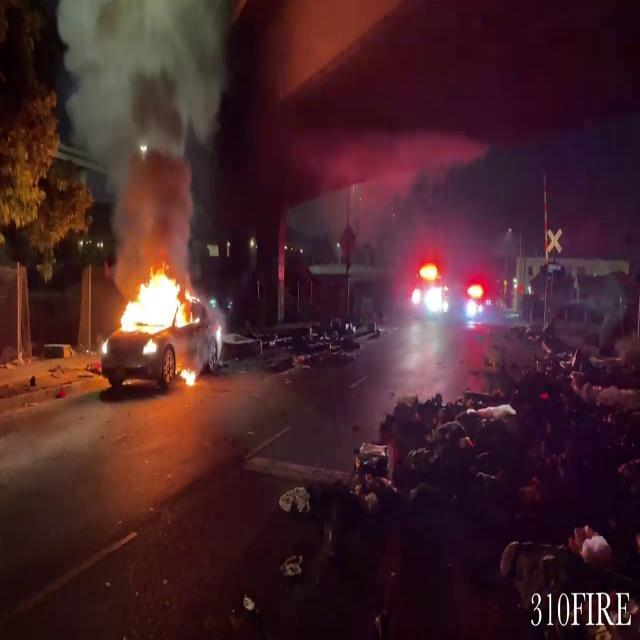Fire: (112, 262, 196, 340)
Smoke: (56, 1, 226, 256)
